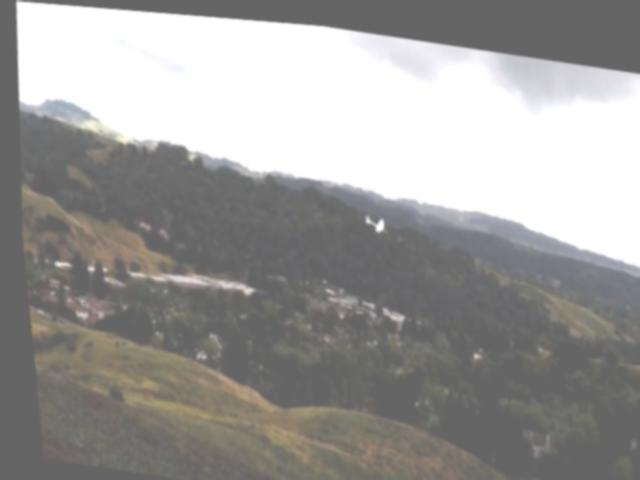iha: (359, 208, 387, 230)
